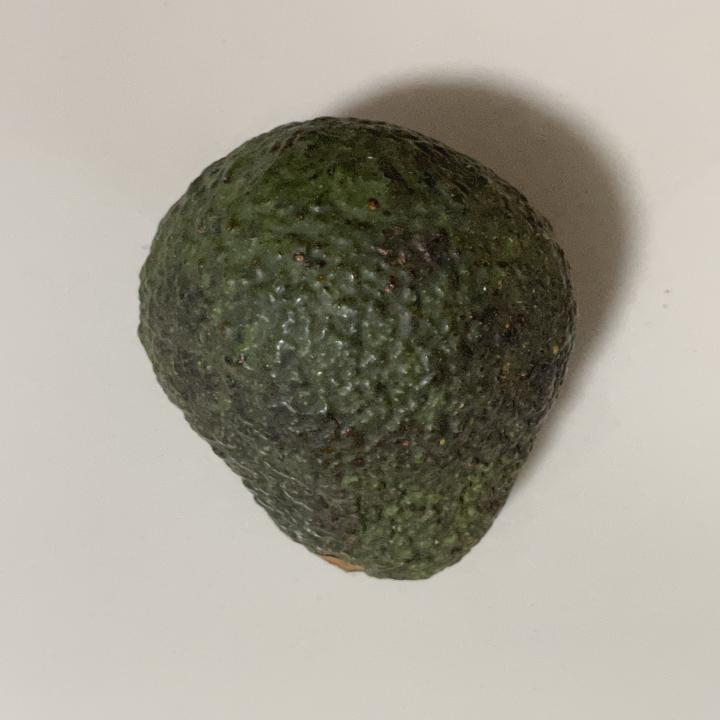Level1: (126, 108, 589, 593)
